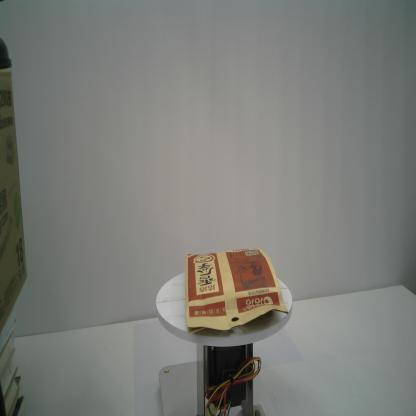Dried Food: (184, 246, 290, 336)
